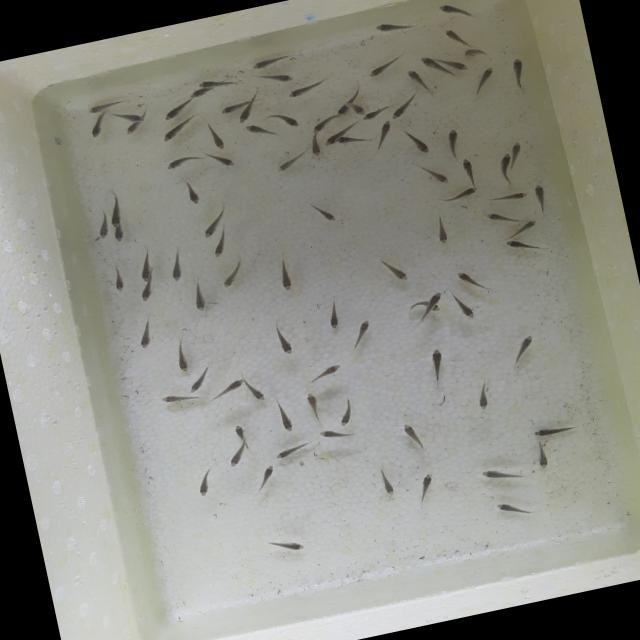fingerling: (490, 492, 537, 526), (472, 462, 528, 488), (375, 252, 411, 290), (450, 260, 490, 294), (506, 331, 542, 367), (420, 345, 452, 385), (500, 232, 551, 256), (362, 54, 409, 80), (528, 418, 582, 440), (418, 160, 454, 193), (132, 316, 164, 352), (272, 250, 298, 293), (397, 418, 428, 454), (192, 72, 240, 95), (468, 378, 498, 414), (266, 321, 294, 358), (204, 378, 249, 401), (408, 472, 438, 506), (248, 463, 283, 492), (264, 532, 306, 556), (269, 104, 302, 134), (154, 389, 197, 412), (434, 0, 475, 24), (368, 119, 396, 154), (242, 120, 281, 145), (478, 206, 522, 228), (284, 78, 328, 100), (332, 401, 363, 432), (306, 194, 336, 226), (108, 106, 148, 130), (320, 298, 348, 332), (428, 212, 456, 246), (103, 190, 128, 228), (198, 210, 231, 238), (191, 466, 218, 500), (157, 118, 195, 142), (308, 359, 349, 381), (449, 293, 478, 324), (164, 252, 192, 284), (185, 282, 211, 316), (334, 129, 376, 150), (160, 153, 200, 175), (371, 16, 417, 35), (434, 186, 482, 204), (273, 440, 314, 461), (374, 464, 400, 497), (249, 51, 294, 70), (220, 442, 248, 472), (256, 66, 294, 88), (299, 127, 324, 160), (469, 65, 498, 93), (388, 95, 420, 120), (348, 318, 376, 346), (208, 232, 236, 260), (218, 260, 244, 290), (219, 96, 259, 115), (274, 401, 297, 434), (159, 100, 193, 122), (440, 126, 463, 158), (118, 119, 150, 142), (272, 152, 305, 174), (205, 120, 227, 153), (203, 150, 236, 172), (135, 248, 155, 284), (107, 264, 131, 294), (506, 54, 527, 88), (314, 424, 352, 442), (305, 386, 326, 418), (406, 128, 430, 156), (84, 114, 108, 142), (442, 54, 473, 75), (187, 370, 214, 394), (504, 220, 540, 238), (441, 26, 468, 50), (406, 66, 428, 95), (92, 210, 113, 240), (245, 379, 268, 406), (531, 183, 551, 214), (459, 157, 480, 186), (495, 152, 514, 184), (532, 440, 552, 469), (492, 188, 528, 204), (420, 54, 444, 78), (228, 421, 253, 444), (136, 281, 160, 304), (462, 41, 491, 60), (362, 105, 392, 122), (172, 346, 189, 375), (509, 140, 528, 164), (185, 182, 204, 206), (309, 115, 336, 131), (422, 288, 448, 304), (185, 88, 210, 103), (110, 224, 126, 246), (349, 102, 368, 119), (238, 106, 258, 122), (320, 134, 338, 149), (335, 104, 348, 116)
